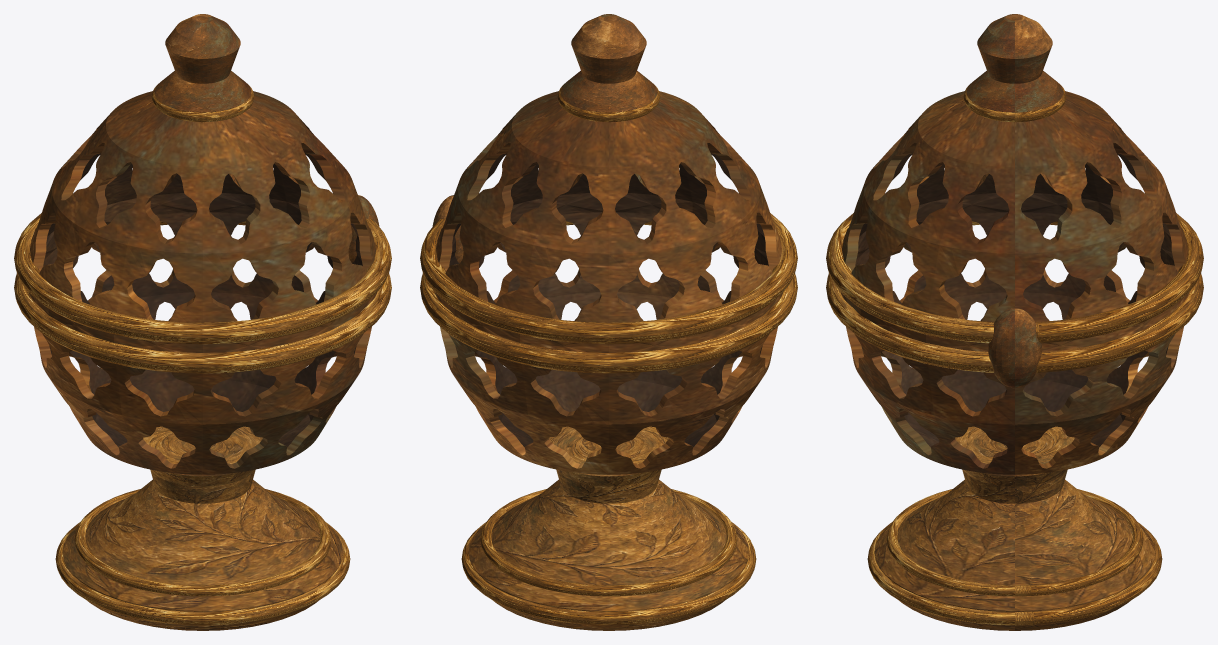
The model's file is censer_t3.obj.
3 views of the same model, side by side, from view 1: azimuth 30°, elevation 25°; view 2: azimuth 150°, elevation 25°; view 3: azimuth 270°, elevation 25° (orthographic).
Visible parts, largest first — view 1: shell, foot, rim1, rim0, lid_knob, foot_lower_trim, foot_upper_trim, knob_trim; view 2: shell, foot, rim1, rim0, lid_knob, foot_lower_trim, foot_upper_trim, knob_trim; view 3: shell, foot, rim1, rim0, lid_knob, foot_lower_trim, foot_upper_trim, hinge, knob_trim.
Part boxes in pixels (x1,y1,x2,y2): shell: [28, 91, 377, 476]; foot: [62, 426, 343, 630]; rim1: [14, 213, 391, 344]; rim0: [14, 221, 391, 373]; lid_knob: [154, 14, 251, 112]; foot_lower_trim: [55, 522, 350, 625]; foot_upper_trim: [74, 489, 331, 596]; knob_trim: [151, 85, 254, 122]; shell: [434, 91, 783, 476]; foot: [468, 426, 749, 630]; rim1: [420, 213, 797, 344]; rim0: [420, 221, 797, 373]; lid_knob: [560, 14, 657, 112]; foot_lower_trim: [461, 522, 756, 625]; foot_upper_trim: [480, 489, 737, 596]; knob_trim: [557, 85, 660, 122]; shell: [840, 91, 1189, 476]; foot: [874, 426, 1155, 630]; rim1: [826, 213, 1203, 343]; rim0: [826, 221, 1203, 372]; lid_knob: [966, 14, 1063, 112]; foot_lower_trim: [867, 522, 1162, 625]; foot_upper_trim: [886, 489, 1143, 596]; hinge: [988, 308, 1041, 388]; knob_trim: [963, 85, 1066, 122].
Size of the model in its own units: 70.72 by 112 by 68.77.
4 materials, 4 textured.
